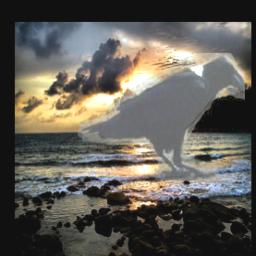Crow: (79, 53, 246, 180)
